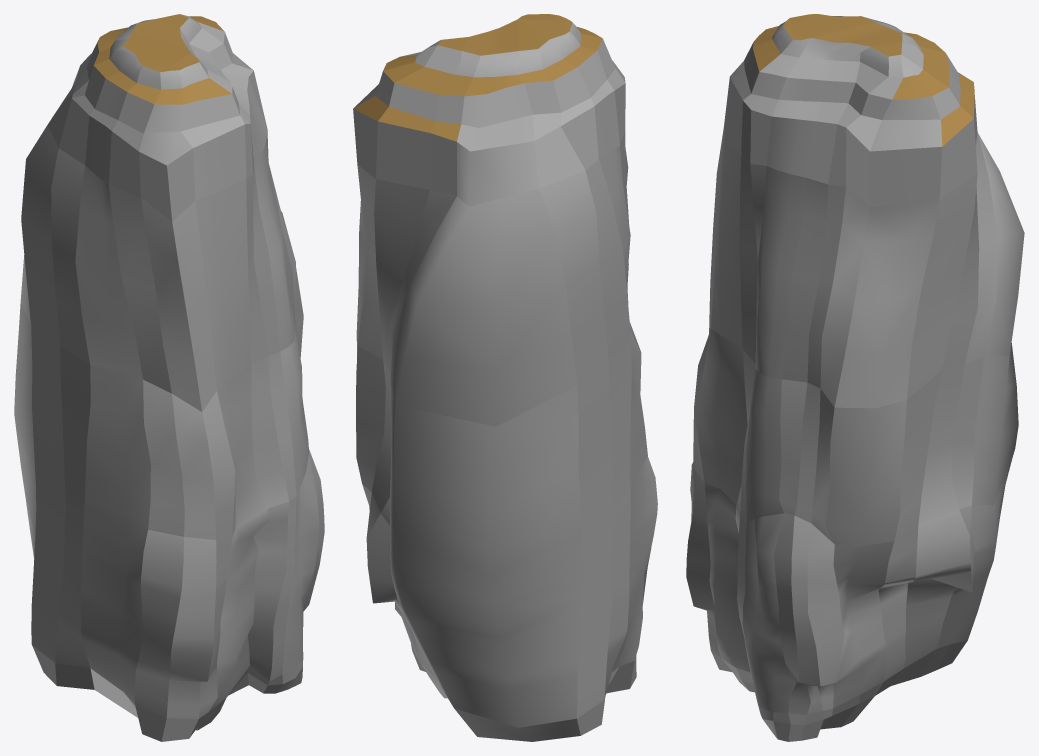
The model's file is 3D_prop_object_MegaRock_001.fbx.
3 views of the same model, side by side, from view 1: azimuth 30°, elevation 25°; view 2: azimuth 150°, elevation 25°; view 3: azimuth 270°, elevation 25° (orthographic). The views are drawn at different scales.
Parts seen in each view (by area): view 1: polySurface1; view 2: polySurface1; view 3: polySurface1.
Part boxes in pixels (left/top/right/bottom): polySurface1: left=14, top=14, right=324, bottom=741; polySurface1: left=353, top=14, right=657, bottom=741; polySurface1: left=686, top=14, right=1024, bottom=741.
Size of the model in its own units: 4.65 by 12.13 by 5.64.
